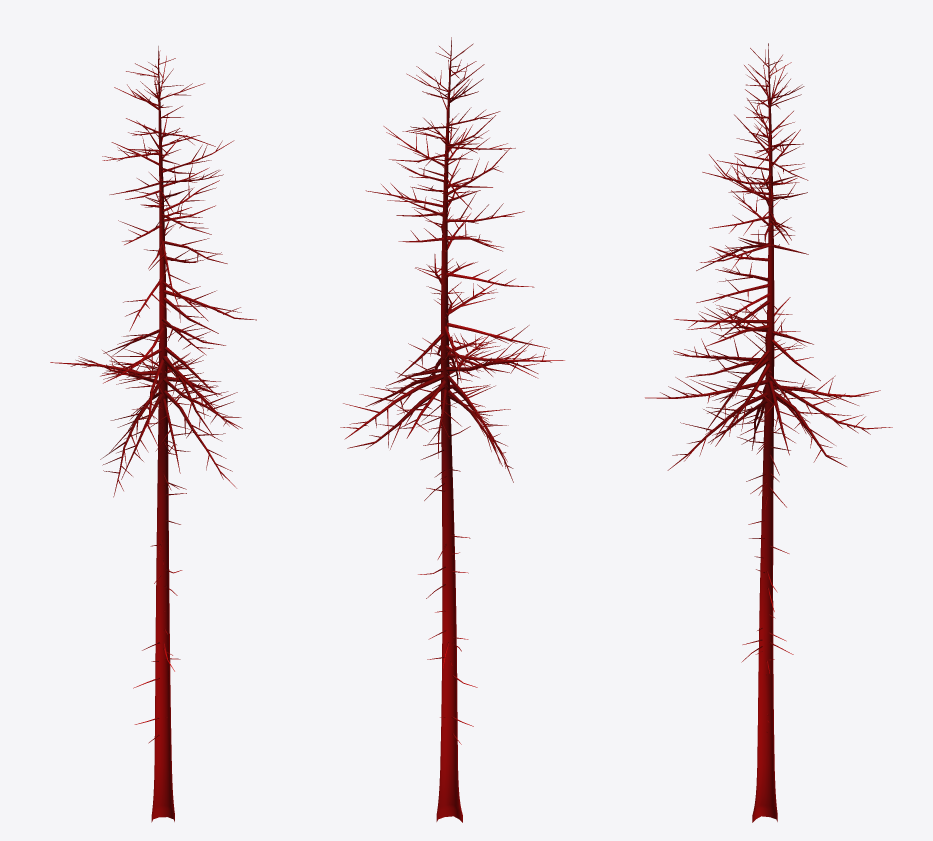
File: pine_a_lod1.glb
3 renders of one model, left to right at view 1: azimuth 30°, elevation 25°; view 2: azimuth 150°, elevation 25°; view 3: azimuth 270°, elevation 25°, orthographic.
Visible parts, largest first — view 1: pine_a_LOD1; view 2: pine_a_LOD1; view 3: pine_a_LOD1.
Boxes of the visible parts, x1,y1,x2,y2 form: pine_a_LOD1: (50,46,256,822); pine_a_LOD1: (340,37,564,822); pine_a_LOD1: (645,43,892,822).
Size of the model in its own units: 7.7 by 24.71 by 8.5.
